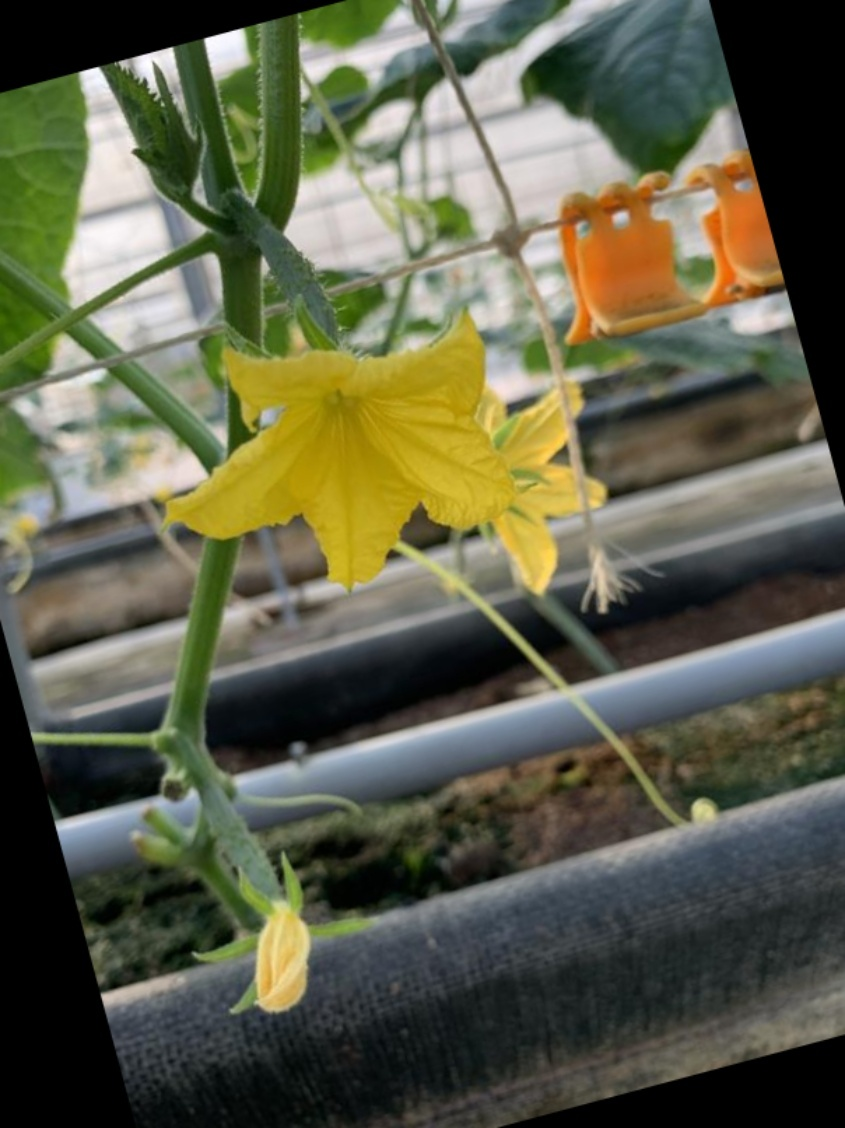flowering: (97, 217, 507, 596)
